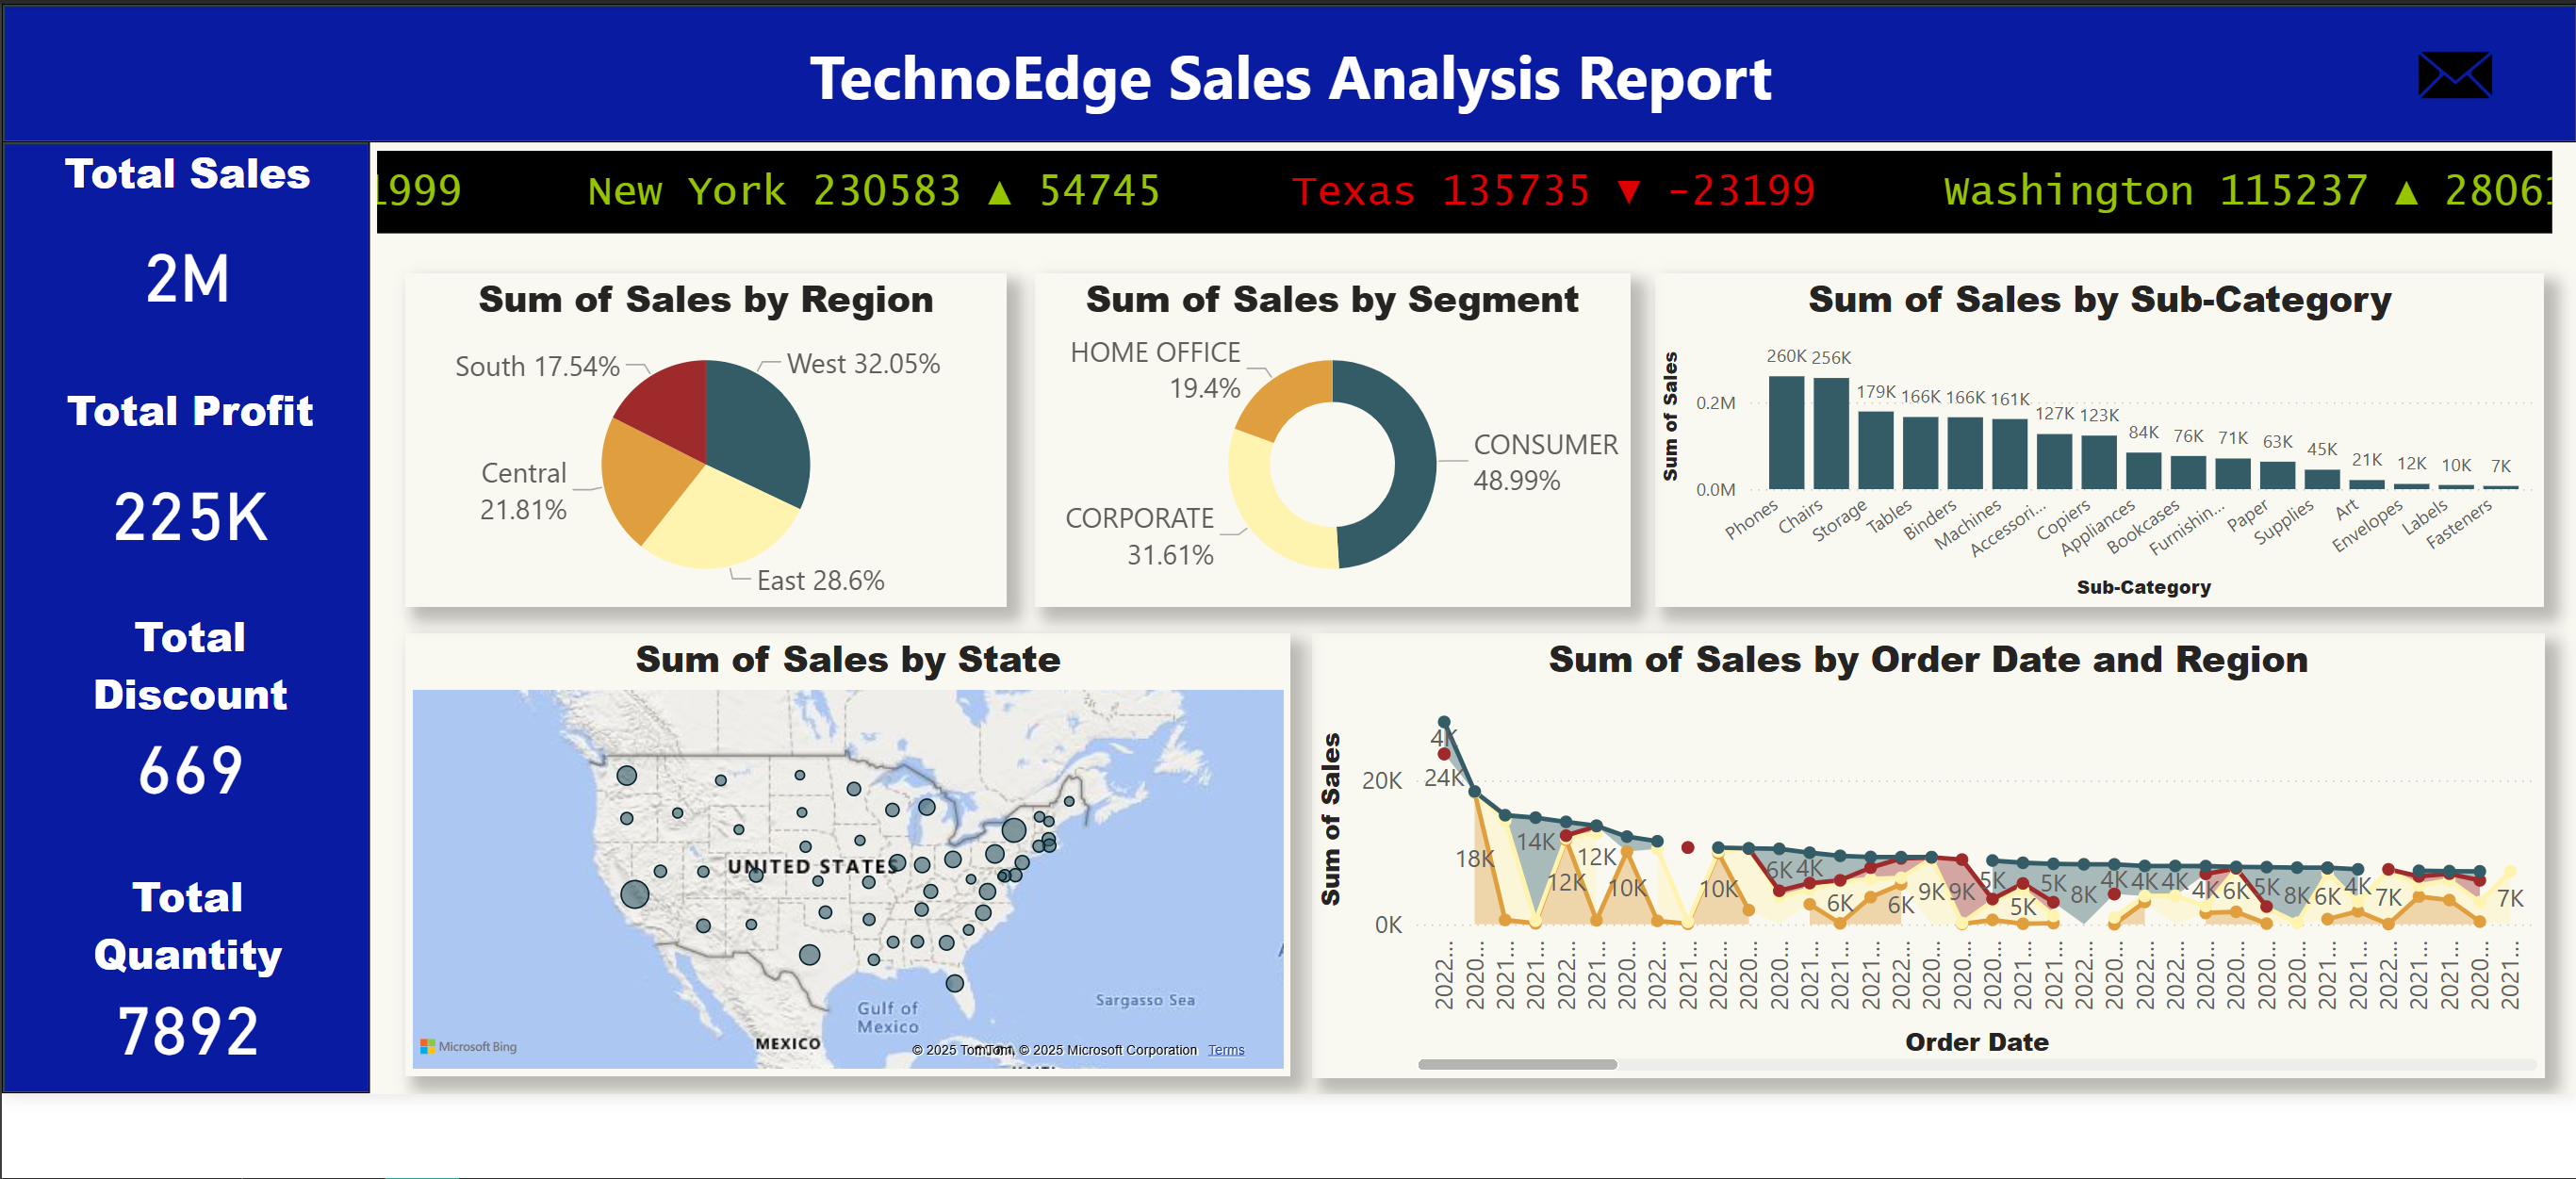

Layout of this report page (visuals, bound fields, positions):
{"tool":"powerbi","page":{"name":"Page 1","canvas":[1700,720],"ordinal":0},"visuals":[{"type":"shape","box":[0,0,1700,91.4],"z":0},{"type":"shape","box":[0,91.4,242.9,628.6],"z":1000},{"type":"card","title":"Total Sales","fields":{"Values":["Sum(Combined Data.Sales)"]},"box":[14.6,91.7,215.3,130.3],"z":2000},{"type":"card","title":"Total Profit","fields":{"Values":["Sum(Combined Data.Profit)"]},"box":[16.9,249.2,213.8,130.8],"z":3000},{"type":"card","title":"Total Discount","fields":{"Values":["Sum(Combined Data.Discount)"]},"box":[16.9,398.5,213.8,129.2],"z":4000},{"type":"card","title":"Total Quantity","fields":{"Values":["CountNonNull(Combined Data.Quantity)"]},"box":[14.6,570.2,215.3,130.3],"z":5000},{"type":"stackedAreaChart","fields":{"Category":["Combined Data.Order Date"],"Y":["Sum(Combined Data.Sales)"],"Series":["Combined Data.Region"]},"box":[864.6,415.4,813.8,293.8],"z":6000},{"type":"map","fields":{"Category":["Combined Data.State"],"Size":["Sum(Combined Data.Sales)"]},"box":[266.2,415.4,584.6,292.3],"z":7000},{"type":"columnChart","fields":{"Category":["Combined Data.Sub-Category"],"Y":["Sum(Combined Data.Sales)"]},"box":[1091.4,178.6,587.1,220],"z":8000},{"type":"pieChart","fields":{"Category":["Combined Data.Region"],"Y":["Sum(Combined Data.Sales)"]},"box":[266.2,178.5,396.9,220],"z":9000},{"type":"donutChart","fields":{"Category":["Combined Data.Segment"],"Y":["Sum(Combined Data.Sales)"]},"box":[681.4,178.6,392.9,220],"z":10000},{"type":"ScrollingTextVisual1448795304508","fields":{"Category":["Combined Data.State"],"Measure Absolute":["Sum(Combined Data.Sales)"],"Measure Deviation":["Sum(Combined Data.Profit)"]},"box":[243.1,92.3,1435.4,64.6],"z":11000},{"type":"image","box":[90,12.9,64.3,64.3],"z":12000},{"type":"image","box":[1552.2,0,136.3,91.8],"z":12001}]}

Visuals, with their boxes on the page's 1700x720 design canvas (x1, y1, x2, y2). These are canvas units, not pixel positions in the 2576x1179 screenshot, which may show the page scaled, cropped or inside an application window:
shape: bbox=(0, 0, 1700, 91)
shape: bbox=(0, 91, 243, 720)
"Total Sales" card: bbox=(15, 92, 230, 222)
"Total Profit" card: bbox=(17, 249, 231, 380)
"Total Discount" card: bbox=(17, 398, 231, 528)
"Total Quantity" card: bbox=(15, 570, 230, 700)
stackedAreaChart - Combined Data.Order Date x Sum(Combined Data.Sales): bbox=(865, 415, 1678, 709)
map - Combined Data.State x Sum(Combined Data.Sales): bbox=(266, 415, 851, 708)
columnChart - Combined Data.Sub-Category x Sum(Combined Data.Sales): bbox=(1091, 179, 1678, 399)
pieChart - Combined Data.Region x Sum(Combined Data.Sales): bbox=(266, 178, 663, 398)
donutChart - Combined Data.Segment x Sum(Combined Data.Sales): bbox=(681, 179, 1074, 399)
ScrollingTextVisual1448795304508 - Combined Data.State x Sum(Combined Data.Sales): bbox=(243, 92, 1678, 157)
image: bbox=(90, 13, 154, 77)
image: bbox=(1552, 0, 1688, 92)
